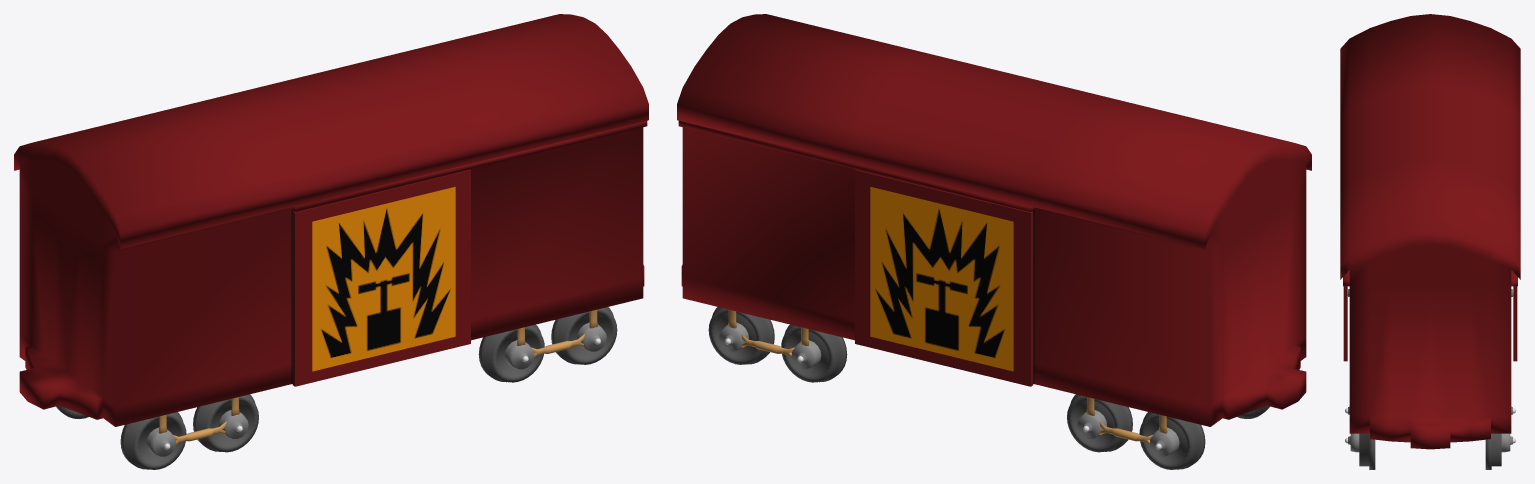
File: Boxcar_Explosive.dae
3 renders of one model, left to right at view 1: azimuth 30°, elevation 25°; view 2: azimuth 150°, elevation 25°; view 3: azimuth 270°, elevation 25°, orthographic. The views are drawn at different scales.
Visible parts, largest first — view 1: Boxcar_Explosive_Model; view 2: Boxcar_Explosive_Model; view 3: Boxcar_Explosive_Model.
Boxes of the visible parts, x1,y1,x2,y2 form: Boxcar_Explosive_Model: [14, 14, 648, 469]; Boxcar_Explosive_Model: [677, 14, 1311, 469]; Boxcar_Explosive_Model: [1340, 14, 1520, 469].
Size of the model in its own units: 4.02 by 1.23 by 1.91.
Materials: 7 (1 with a texture image).
